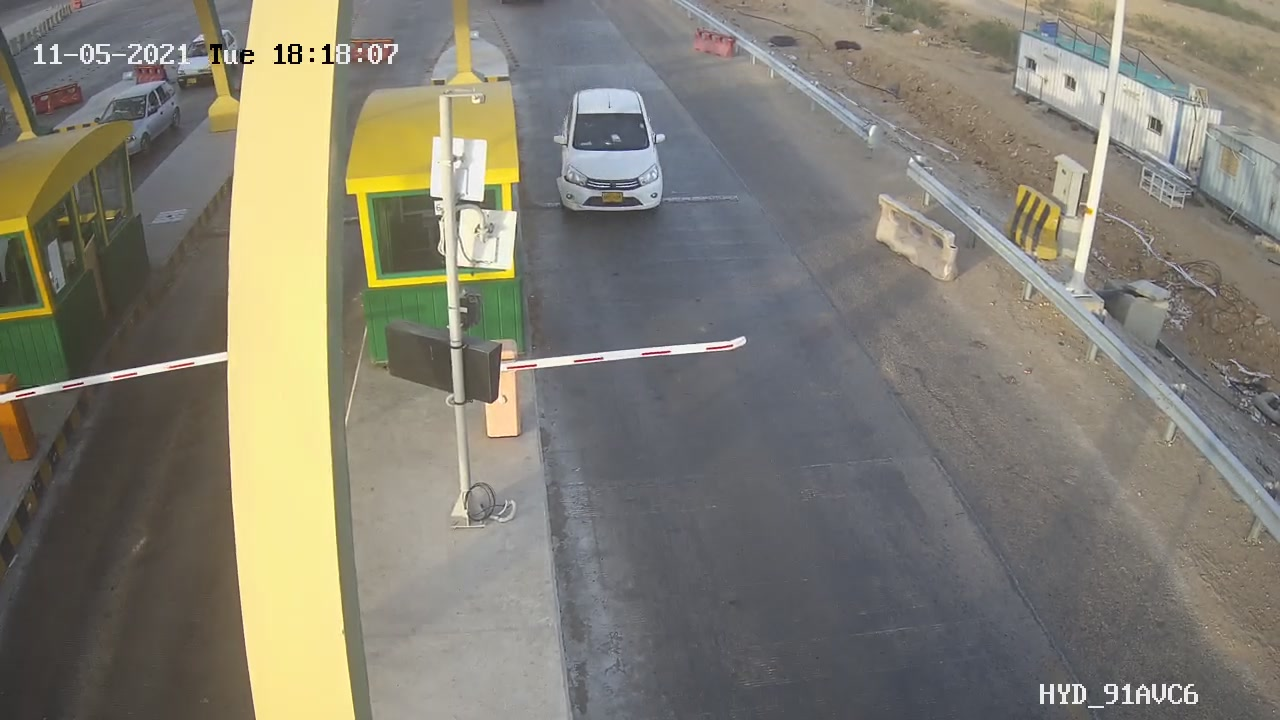F1: (543, 87, 690, 220)
